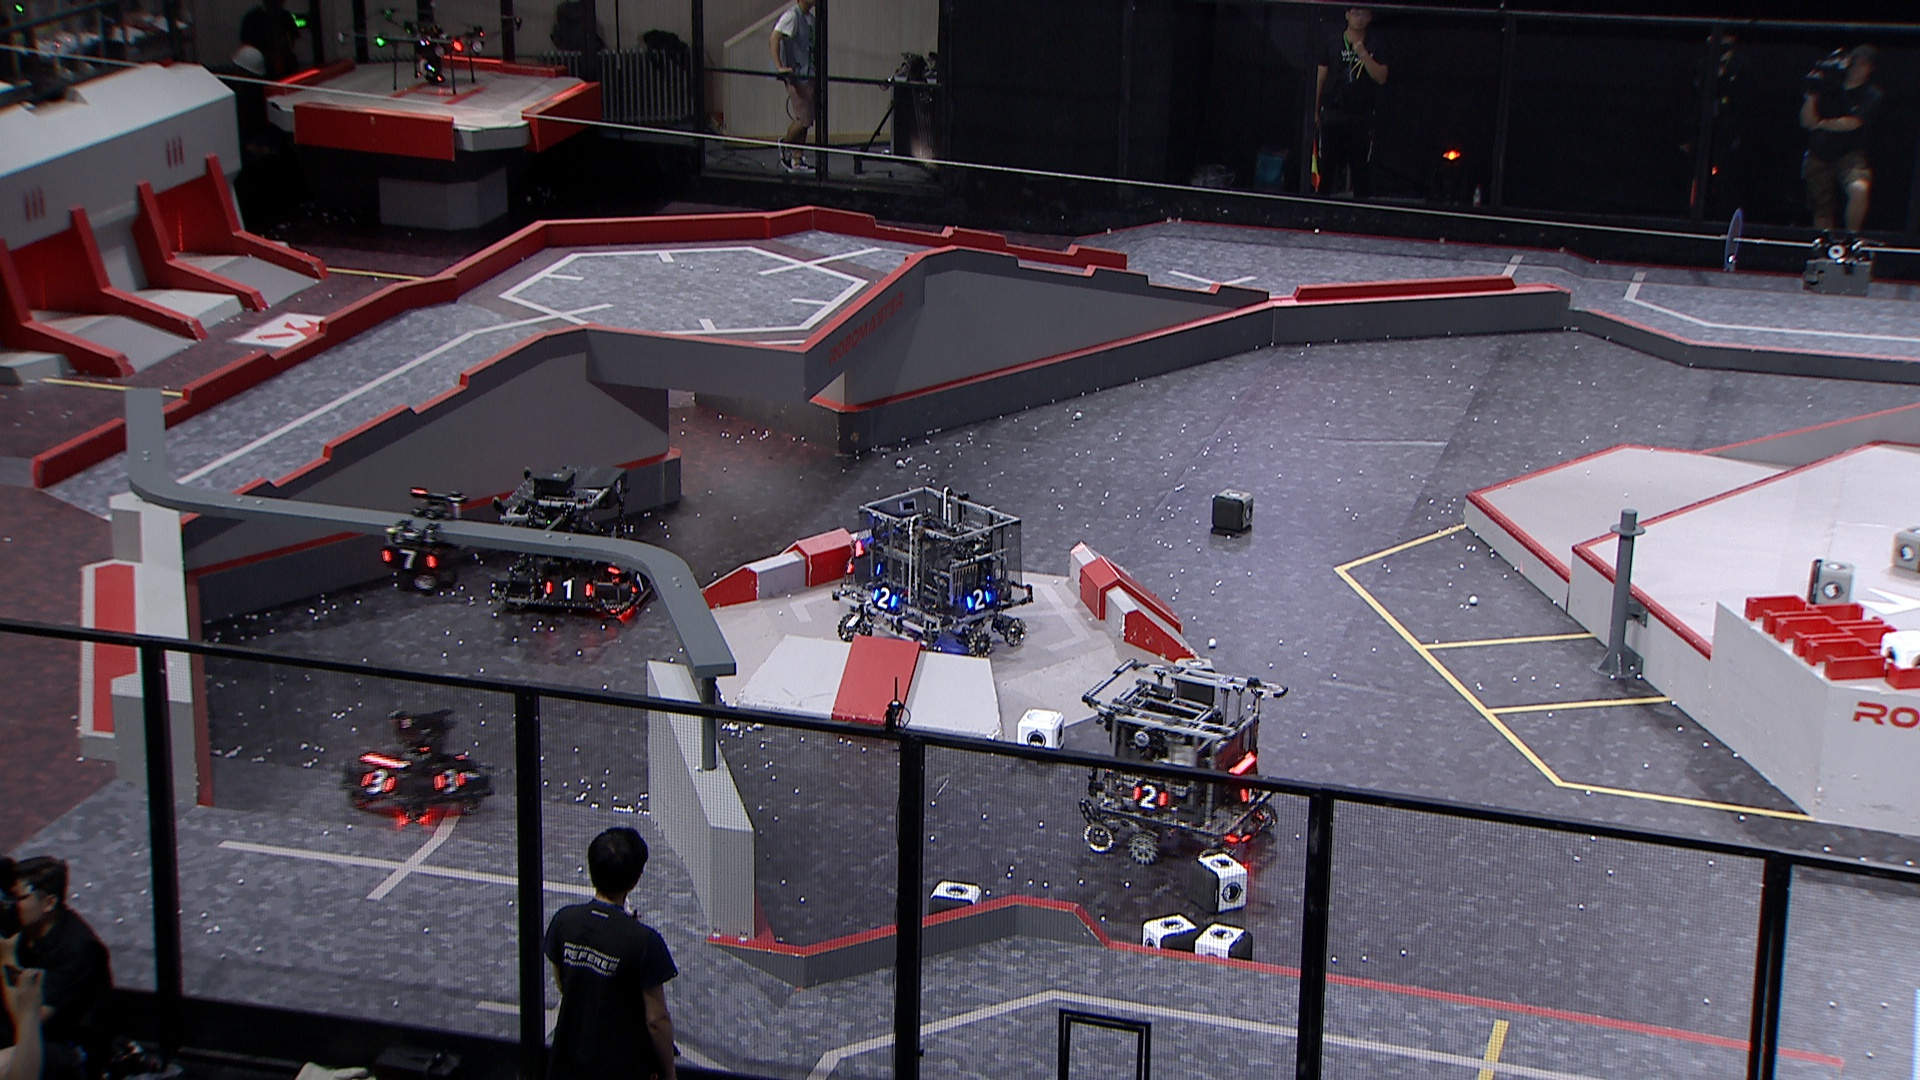armor: (377, 546, 438, 570), (543, 576, 593, 603), (1129, 783, 1172, 812), (357, 769, 396, 796), (429, 769, 468, 793), (870, 585, 902, 612), (965, 585, 992, 611), (1234, 785, 1263, 807), (628, 570, 647, 597)
car: (1072, 655, 1287, 865), (827, 487, 1033, 662), (487, 465, 655, 626), (334, 703, 495, 820)
watcher: (373, 489, 472, 599)
